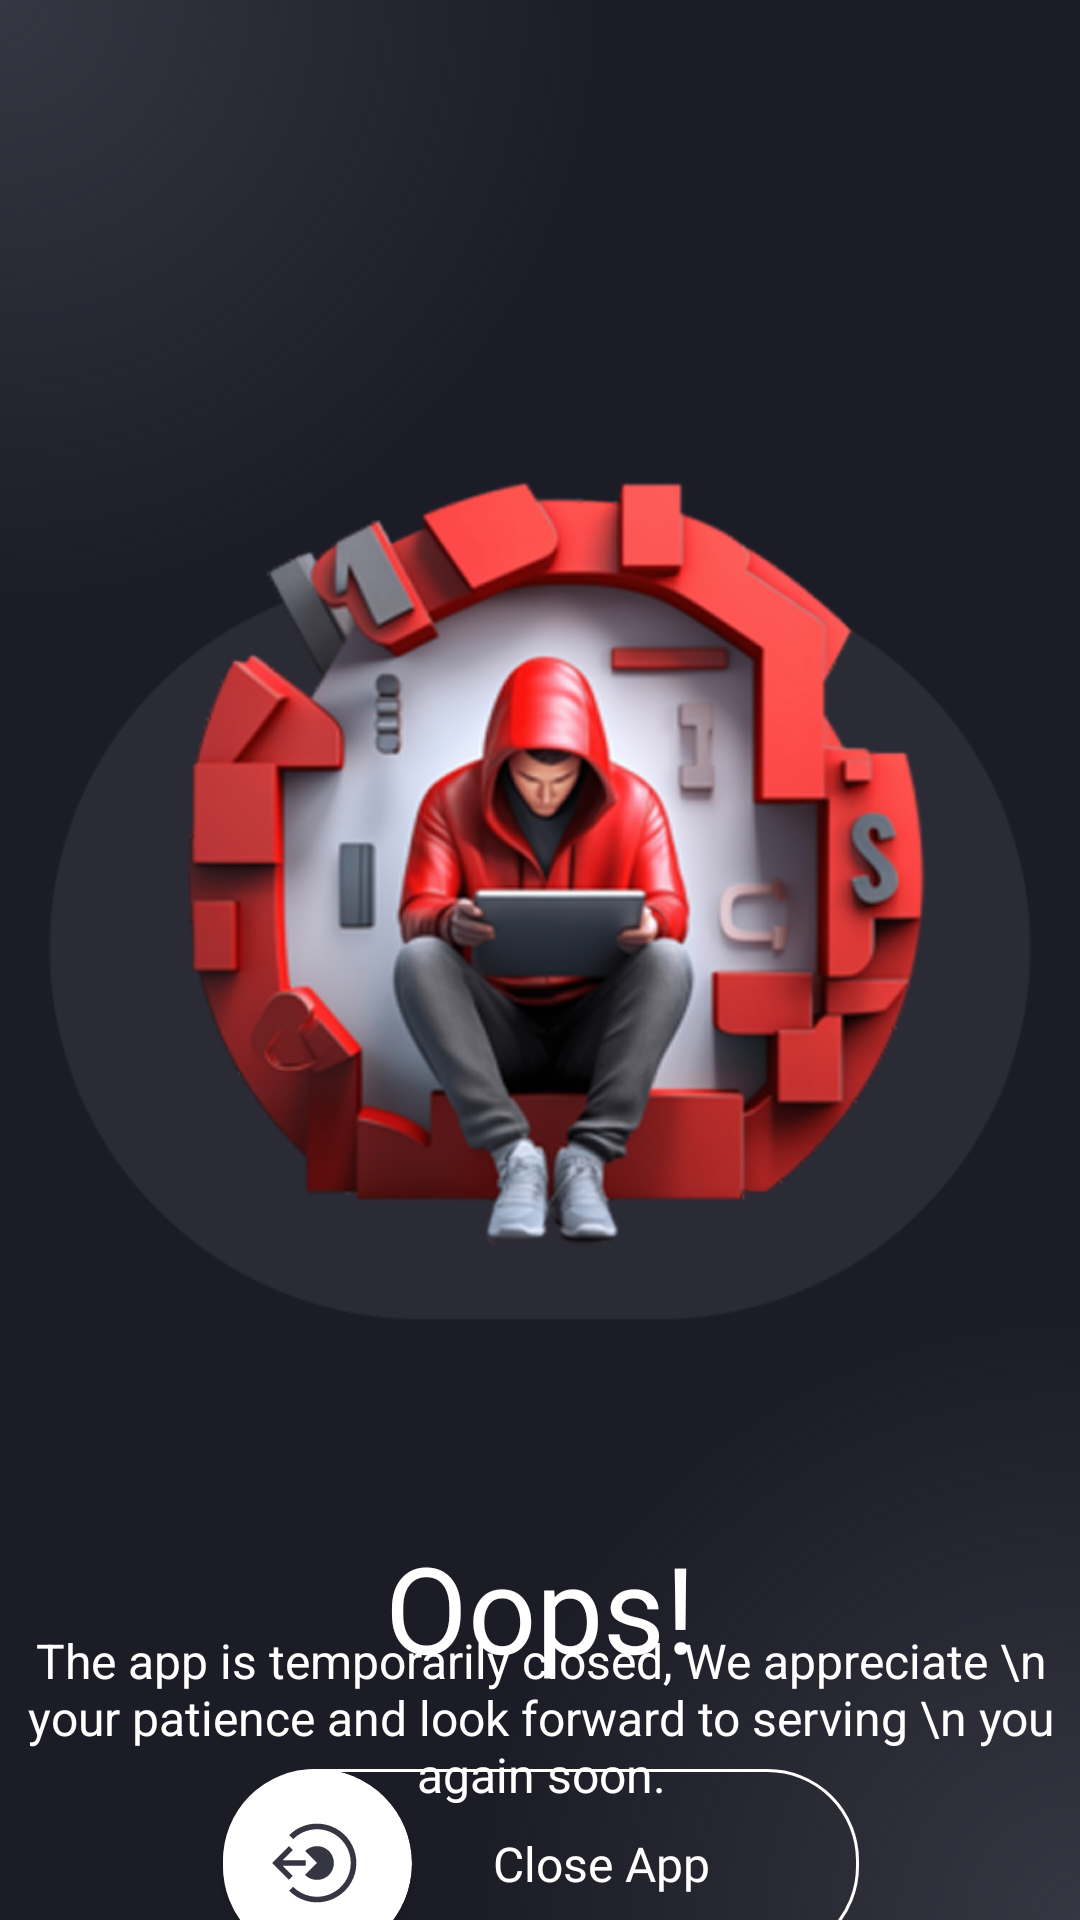

Locate icon controls on the screen. Image size 1080 x 1920, boxes as (x1, y1, x2, y2).
left back circle: (272, 1823, 357, 1903)
